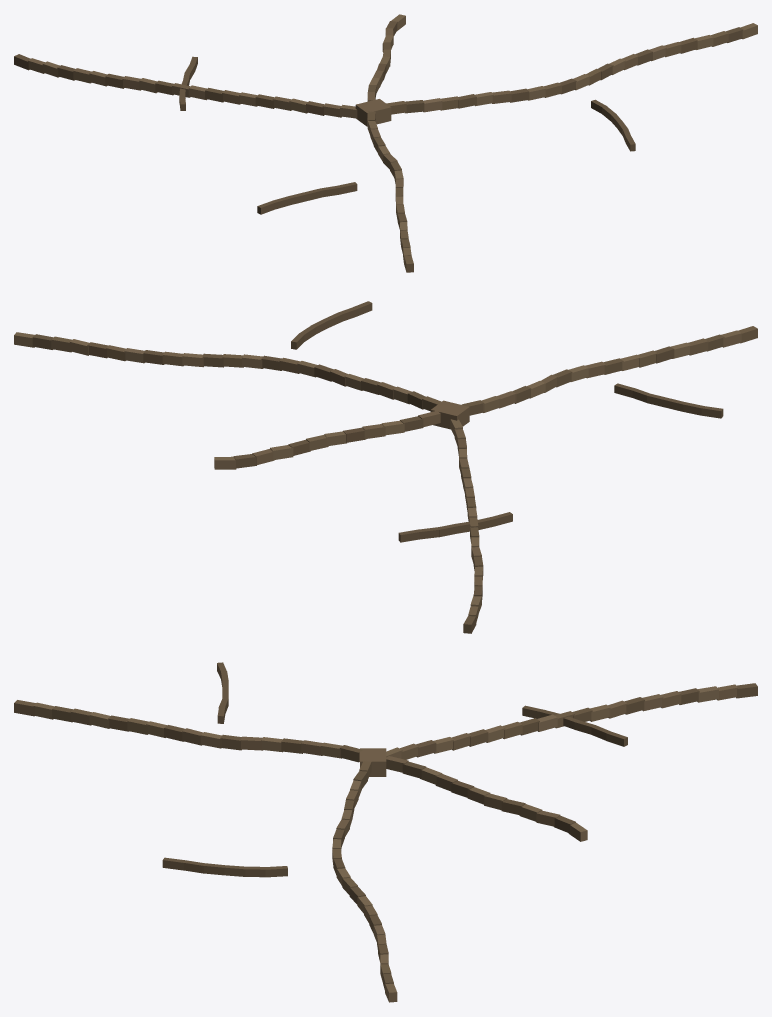
Rendered from ravne-tunnels.glb.
The picture shows the model from 3 angles, top to bottom: view 1: azimuth 30°, elevation 25°; view 2: azimuth 150°, elevation 25°; view 3: azimuth 270°, elevation 25°; orthographic projection. The views are drawn at different scales.
Visible parts, largest first — view 1: ravne-tunnels; view 2: ravne-tunnels; view 3: ravne-tunnels.
Boxes of the visible parts, x1,y1,x2,y2 form: ravne-tunnels: (14, 14, 757, 272); ravne-tunnels: (14, 301, 757, 633); ravne-tunnels: (14, 662, 757, 1002).
Size of the model in its own units: 144 by 8.73 by 142.
